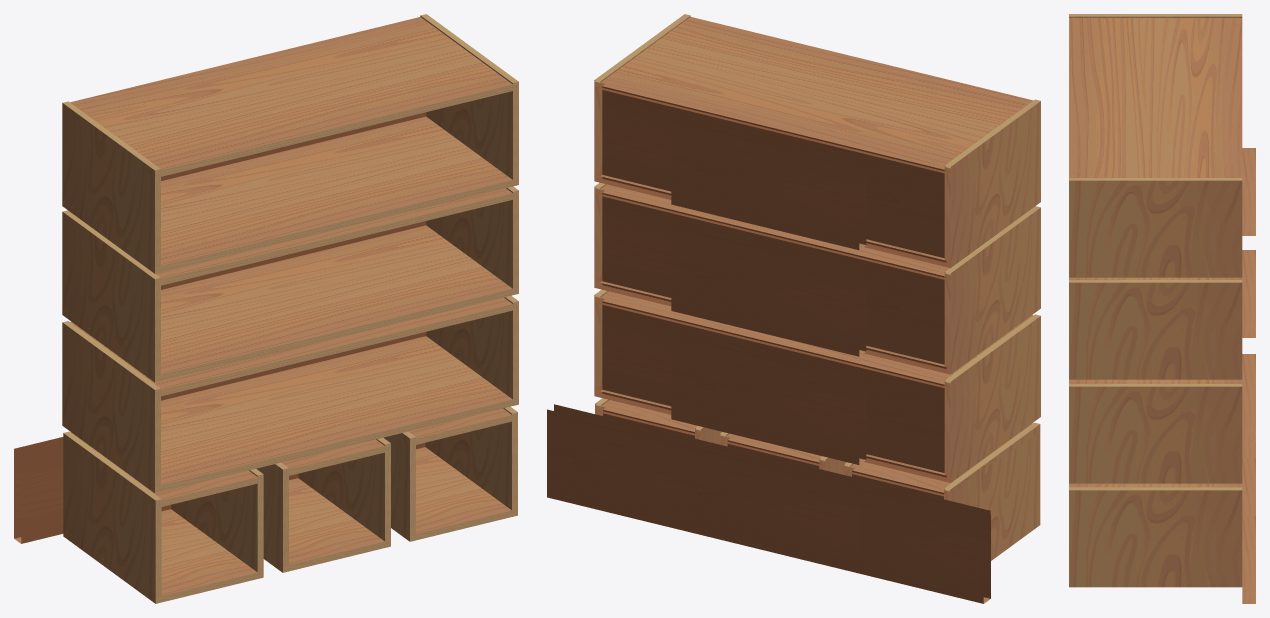
Rendered from layout_wide_4s_bot_split.fbx.
3 views of the same model, side by side, from view 1: azimuth 30°, elevation 25°; view 2: azimuth 150°, elevation 25°; view 3: azimuth 270°, elevation 25° (orthographic). The views are drawn at different scales.
Parts seen in each view (by area): view 1: Shelf-TM-00 5, Shelf-BM-00 4, Shelf-BM-00 5, Shelf-BM-00 3, Shelf-CL-01 3, Shelf-CL-01 5, Shelf-CL-01 2, Shelf-CL-01 4, Shelf-TM-00 3, Shelf-CR-01 5, Shelf-BM-00 2, Shelf-BM-00 1 (+20 smaller); view 2: Shelf-TM-00 5, Shelf-Back-00 (1) 5, Shelf-Back-00 (1) 4, Shelf-Back-00 (1) 3, Shelf-Back-00 (1), Shelf-Back-00 4, Shelf-Back-00 5, Shelf-Back-00 3, Shelf-Back-00 (1) 2, Shelf-Back-00 (1) 1, Shelf-CL-01 3, Shelf-CL-01 5 (+19 smaller); view 3: Shelf-TM-00 5, Shelf-CR-01 1, Shelf-CR-01 3, Shelf-CR-01 4, Shelf-CR-01 5, Shelf-Back-00 (1) 1, Shelf-Back-00 (1) 3, Shelf-Back-00 (1) 4, Shelf-Back-00 (1) 5, Shelf-CR-00 1, Shelf-CR-00 3, Shelf-CR-00 4 (+6 smaller).
Part boxes in pixels (x1,y1,x2,y2): Shelf-TM-00 5: [70, 17, 512, 176]; Shelf-BM-00 4: [161, 225, 512, 380]; Shelf-BM-00 5: [161, 116, 512, 272]; Shelf-BM-00 3: [161, 336, 512, 491]; Shelf-CL-01 3: [62, 321, 160, 486]; Shelf-CL-01 5: [62, 101, 160, 267]; Shelf-CL-01 2: [63, 431, 161, 597]; Shelf-CL-01 4: [62, 210, 160, 375]; Shelf-TM-00 3: [70, 297, 512, 396]; Shelf-CR-01 5: [420, 14, 518, 179]; Shelf-BM-00 2: [161, 509, 257, 602]; Shelf-BM-00 1: [416, 447, 511, 540]; Shelf-TM-00 5: [600, 17, 1033, 173]; Shelf-Back-00 (1) 5: [671, 111, 866, 250]; Shelf-Back-00 (1) 4: [671, 218, 866, 356]; Shelf-Back-00 (1) 3: [671, 326, 866, 464]; Shelf-Back-00 (1): [671, 435, 859, 573]; Shelf-Back-00 4: [602, 190, 946, 368]; Shelf-Back-00 5: [602, 84, 946, 262]; Shelf-Back-00 3: [602, 299, 946, 477]; Shelf-Back-00 (1) 2: [797, 465, 990, 603]; Shelf-Back-00 (1) 1: [547, 404, 741, 527]; Shelf-CL-01 3: [944, 314, 1040, 476]; Shelf-CL-01 5: [944, 99, 1040, 261]; Shelf-TM-00 5: [1069, 18, 1242, 177]; Shelf-CR-01 1: [1069, 487, 1242, 580]; Shelf-CR-01 3: [1069, 384, 1242, 477]; Shelf-CR-01 4: [1069, 280, 1242, 373]; Shelf-CR-01 5: [1069, 178, 1242, 271]; Shelf-Back-00 (1) 1: [1242, 516, 1255, 603]; Shelf-Back-00 (1) 3: [1242, 354, 1255, 441]; Shelf-Back-00 (1) 4: [1242, 250, 1255, 337]; Shelf-Back-00 (1) 5: [1242, 148, 1255, 235]; Shelf-CR-00 1: [1069, 581, 1242, 587]; Shelf-CR-00 3: [1069, 477, 1242, 483]; Shelf-CR-00 4: [1069, 373, 1242, 379].
Size of the model in its own units: 223 by 207 by 86.3.
